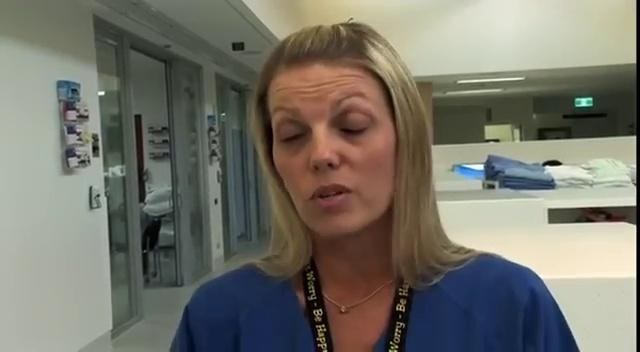nurse: (167, 18, 583, 350)
